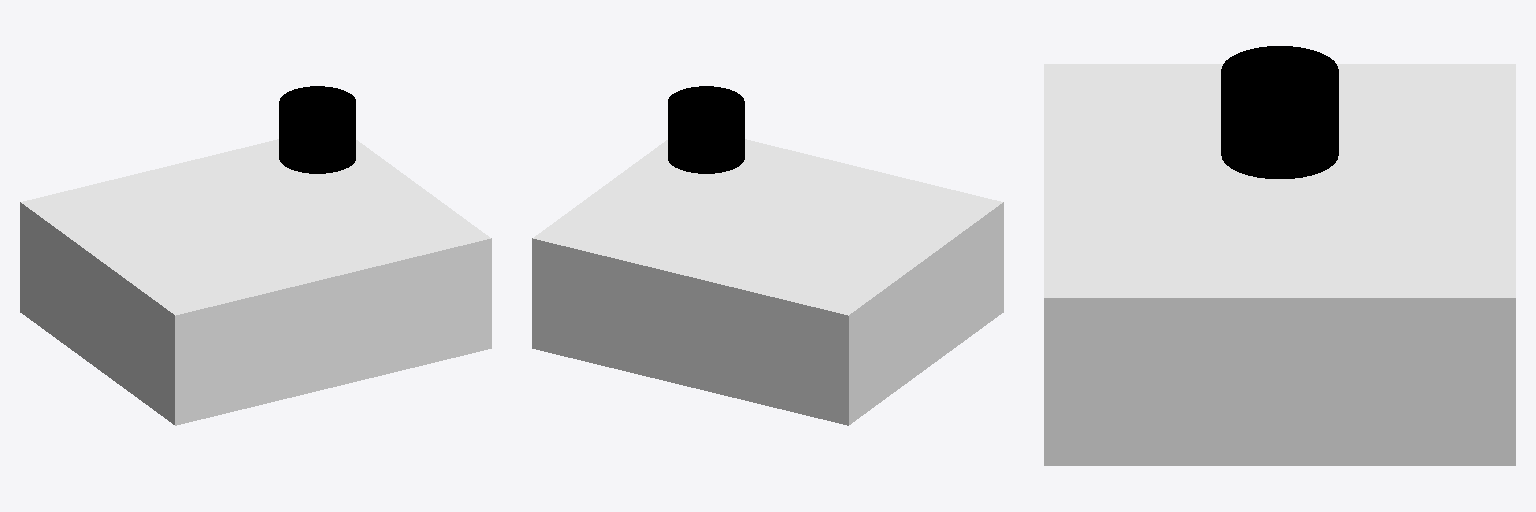
URDF robot description (grabby):
<robot name="grabby">
    <material name="aluminium_grey">
        <color rgba="134.0 133.0 129.0 1.000" />
    </material>
    <material name="black">
        <color rgba="0 0 0 1" />
    </material>
    <material name="green">
        <color rgba="0.0 1.0 0.0 1.0" />
    </material>

    <!-- Base Link -->
    <link name="base_link">
        <visual>
            <geometry>
                <!-- Size: length width height in meters -->
                <box size="0.330 0.280 0.110" />
            </geometry>
            <material name="aluminium_grey"/>
        </visual>
        <collision>
            <geometry>
                <box size="0.330 0.280 0.110" />
            </geometry>
        </collision>
    </link>

    <!-- Base footprint -->
    <link name="base_footprint" />

    <joint name="base_footprint_to_base_link" type="fixed">
        <parent link="base_footprint" />
        <child link="base_link" />
        <origin xyz="0 0 0.025" rpy="0 0 0" />
    </joint>

    <!-- Lidar -->
    <link name="laser">
        <visual>
            <geometry>
                <cylinder length="0.055" radius="0.035" />
            </geometry>
            <material name="black" />
        </visual>
        <collision>
            <geometry>
                <cylinder length="0.055" radius="0.035" />
            </geometry>
        </collision>
    </link>

    <joint name="base_link_to_laser" type="fixed">
        <parent link="base_link" />
        <child link="laser" />
        <!-- <origin xyz="0.0645 0 0.130" rpy="0 0 0" /> -->
        <!-- Use the line below if the LiDAR is pointing backwards (rotates along z of pi) -->
        <origin xyz="0.0645 0 0.130" rpy="0 0 3.1416" />
    </joint>

    <!-- Left Wheel -->
    <link name="left_wheel">
        <visual>
            <geometry>
                <cylinder length="0.025" radius="0.035" /> 
            </geometry>
            <material name="black" />
        </visual>
        <collision>
            <geometry>
                <cylinder length="0.025" radius="0.035" />
            </geometry>
        </collision>
    </link>

    <joint name="base_link_to_left_wheel" type="continuous">
        <parent link="base_link" />
        <child link="left_wheel" />
        <origin xyz="0 -0.078 0" rpy="0 0 0" />
        <axis xyz="0 1 0" />
    </joint>

    <!-- Right Wheel -->
    <link name="right_wheel">
        <visual>
            <geometry>
                <cylinder length="0.025" radius="0.035" />
            </geometry>
            <material name="black" />
        </visual>
        <collision>
            <geometry>
                <cylinder length="0.025" radius="0.035" />
            </geometry>
        </collision>
    </link>

    <joint name="base_link_to_right_wheel" type="continuous">
        <parent link="base_link" />
        <child link="right_wheel" />
        <origin xyz="0 0.078 0" rpy="0 0 0" /> 
        <axis xyz="0 1 0" />
    </joint>

    <!-- IMU -->
    <link name="imu">
        <visual>
            <geometry>
                <box size="0.020 0.020 0.010" /> 
            </geometry>
            <material name="green" />
        </visual>
        <collision>
            <geometry>
                <box size="0.020 0.020 0.010" />
            </geometry>
        </collision>
    </link>

    <joint name="base_link_to_imu" type="fixed">
        <parent link="base_link" />
        <child link="imu" />
        <origin xyz="0.1245 0.0895 0.0" rpy="0 0 0" />  
    </joint>
</robot>

--- What the picture shows (computed from the rendered views, not written in the file) ---
3 views of the same robot in one strip: view 1: azimuth 30°, elevation 25°; view 2: azimuth 150°, elevation 25°; view 3: azimuth 270°, elevation 25° (orthographic).
Model grabby with 6 links and 5 joints (2 continuous, 3 fixed), rooted at base_footprint, posed all joints at 0.
Links seen in each view (by area): view 1: base_link, laser; view 2: base_link, laser; view 3: base_link, laser.
Link boxes in pixels (<box>): base_link: <box>20,139,491,425</box>; laser: <box>279,86,355,173</box>; base_link: <box>532,139,1003,425</box>; laser: <box>668,86,744,173</box>; base_link: <box>1044,64,1515,465</box>; laser: <box>1221,46,1338,178</box>.
Size in the robot's own frame: 0.33 by 0.28 by 0.2125 metres.
Geometry: primitives only (box / cylinder / sphere), no mesh files.
